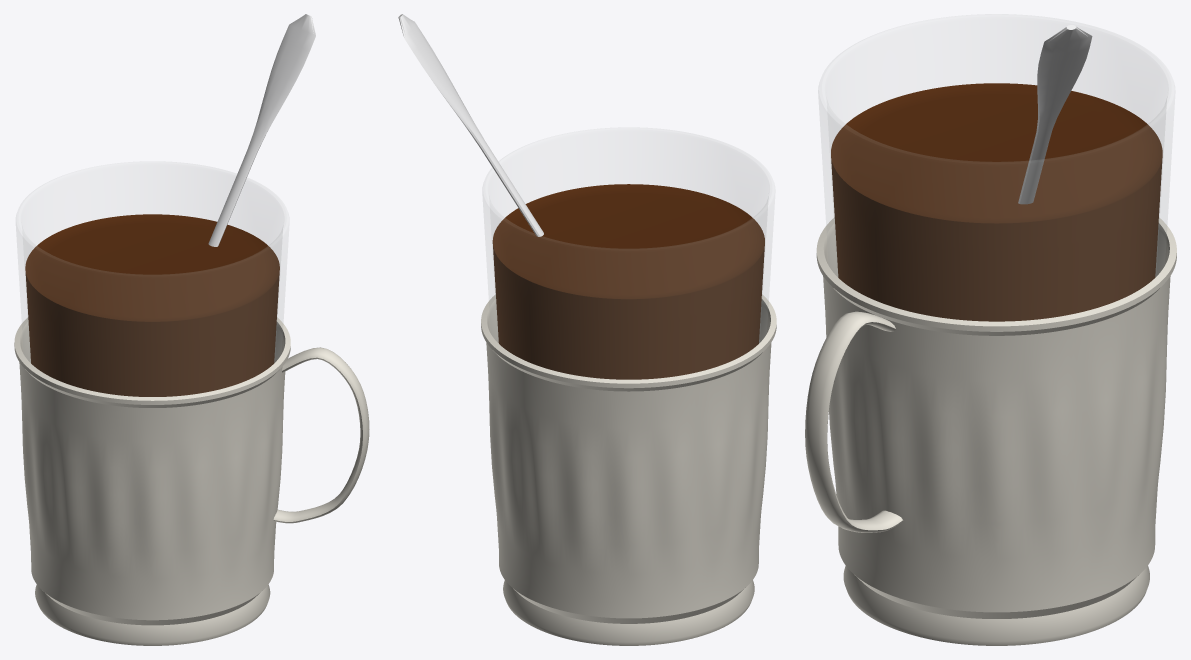
The model's file is tea.glb.
3 renders of one model, left to right at view 1: azimuth 30°, elevation 25°; view 2: azimuth 150°, elevation 25°; view 3: azimuth 270°, elevation 25°, orthographic. The views are drawn at different scales.
Visible parts, largest first — view 1: tea_holder, tea_glass, tea_liquid, tea_spoon; view 2: tea_holder, tea_glass, tea_liquid, tea_spoon; view 3: tea_holder, tea_glass, tea_liquid, tea_spoon.
Part boxes in pixels (bbox=[...]): tea_holder: bbox=[14, 317, 369, 645]; tea_glass: bbox=[16, 162, 288, 396]; tea_liquid: bbox=[25, 214, 279, 396]; tea_spoon: bbox=[208, 14, 315, 246]; tea_holder: bbox=[481, 294, 776, 645]; tea_glass: bbox=[483, 128, 774, 378]; tea_liquid: bbox=[492, 184, 764, 379]; tea_spoon: bbox=[398, 14, 543, 236]; tea_holder: bbox=[805, 217, 1176, 645]; tea_glass: bbox=[818, 14, 1174, 320]; tea_liquid: bbox=[831, 83, 1162, 321]; tea_spoon: bbox=[1018, 25, 1092, 204].
Bounding box in the file's own units: 0.0915 × 0.1474 × 0.0738.
